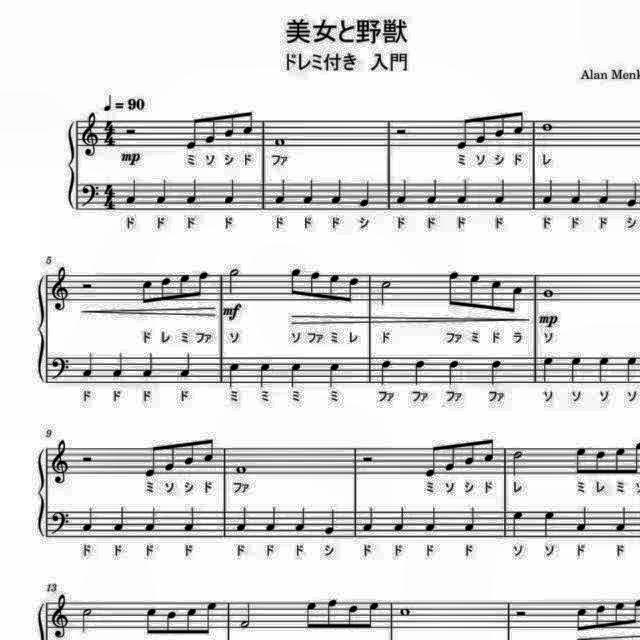Bass-clef: (78, 179, 102, 209), (48, 353, 72, 382), (51, 509, 74, 539)
Eighth-note: (140, 442, 160, 481), (420, 443, 440, 481), (442, 268, 460, 310), (140, 604, 160, 640), (466, 268, 482, 312), (202, 598, 220, 636), (451, 116, 469, 152), (183, 115, 200, 153), (488, 274, 504, 314), (509, 283, 527, 317), (444, 438, 460, 474), (324, 597, 340, 633), (163, 438, 179, 474), (304, 596, 320, 632), (571, 605, 589, 637), (286, 264, 302, 300), (364, 598, 380, 632), (183, 605, 199, 639), (307, 268, 323, 300), (220, 110, 236, 142), (474, 114, 490, 146), (482, 434, 498, 466), (202, 434, 218, 466), (346, 274, 362, 306), (571, 442, 587, 474), (176, 270, 192, 302), (162, 608, 178, 640), (614, 444, 630, 476), (195, 268, 211, 300), (138, 276, 154, 308), (613, 600, 629, 632), (592, 447, 608, 477), (512, 108, 528, 138), (240, 108, 256, 138), (326, 270, 340, 304), (160, 272, 174, 306), (462, 436, 476, 468), (182, 436, 196, 468), (204, 114, 218, 146), (492, 112, 508, 140), (593, 601, 607, 633), (346, 603, 360, 633)
Full-note: (540, 284, 556, 300), (396, 602, 412, 618), (233, 462, 250, 476), (272, 135, 288, 149), (538, 121, 554, 135)
Half-note: (377, 276, 395, 308), (80, 604, 98, 636), (510, 448, 528, 479), (238, 600, 255, 632), (226, 266, 242, 298)
Half-rest: (80, 450, 96, 466), (513, 605, 531, 619), (78, 278, 96, 292), (393, 125, 411, 139), (123, 124, 137, 140), (358, 452, 374, 464)
Quarter-note: (180, 503, 200, 533), (538, 354, 556, 386), (566, 354, 584, 386), (445, 357, 463, 388), (623, 352, 640, 384), (509, 508, 526, 540), (573, 503, 591, 533), (487, 357, 505, 387), (538, 177, 556, 207), (287, 359, 305, 389), (390, 505, 408, 535), (226, 360, 244, 390), (327, 361, 345, 391), (596, 352, 612, 384), (422, 504, 438, 536), (492, 176, 508, 208), (540, 508, 556, 540), (356, 178, 372, 210), (322, 506, 338, 538), (183, 177, 200, 207), (233, 505, 250, 535), (454, 176, 471, 206), (359, 505, 376, 535), (424, 175, 441, 205), (142, 505, 158, 535), (412, 358, 428, 388), (274, 177, 290, 207), (222, 177, 238, 207), (462, 503, 478, 533), (378, 358, 394, 388), (264, 505, 280, 535), (330, 175, 346, 205), (614, 504, 630, 534), (124, 176, 140, 206), (110, 505, 126, 535), (302, 175, 318, 205), (394, 177, 410, 207), (80, 350, 96, 380), (258, 360, 274, 390), (568, 175, 584, 205), (624, 178, 640, 208), (596, 176, 612, 206), (292, 505, 308, 535), (82, 505, 98, 535), (140, 352, 156, 381), (180, 352, 196, 381), (155, 176, 171, 204), (112, 352, 128, 380), (639, 352, 640, 384)
Treble-clef: (51, 436, 75, 484), (50, 266, 74, 314), (51, 592, 74, 640), (79, 110, 101, 160)
